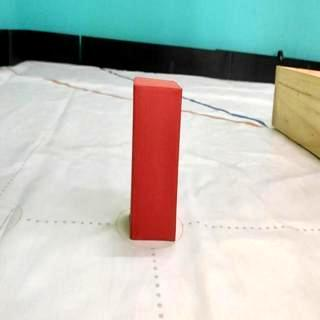redbox: (130, 78, 182, 240)
